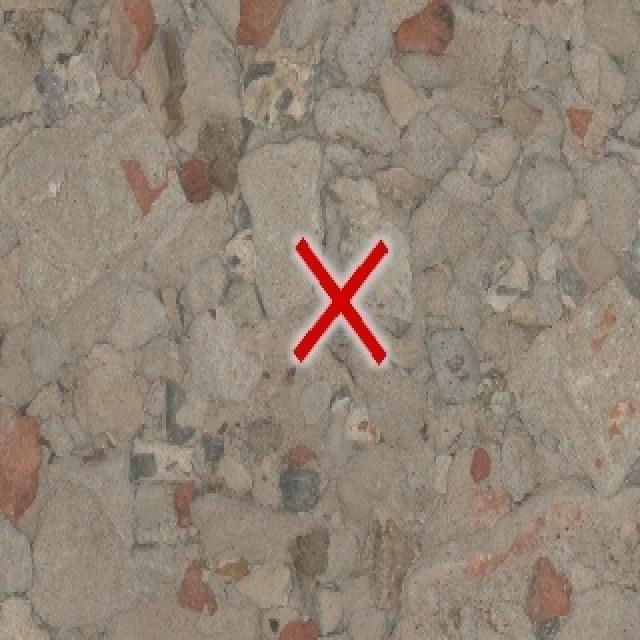x_marker: (293, 239, 387, 361)
